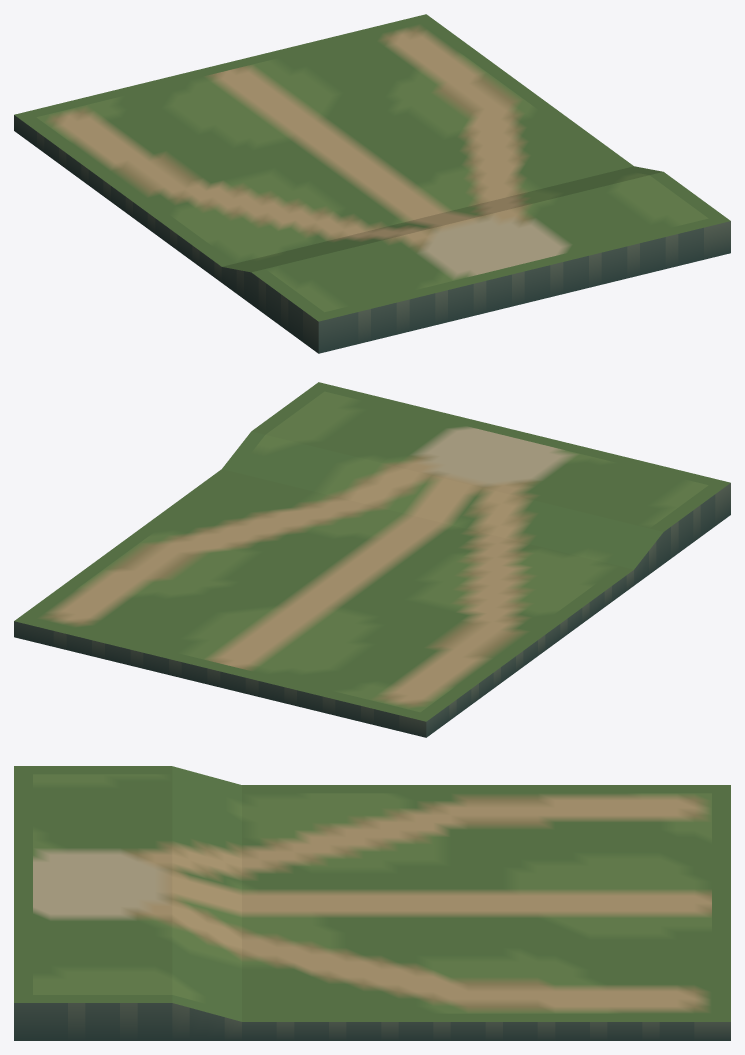
Rendered from rush-approach.glb.
3 renders of one model, top to bottom at view 1: azimuth 30°, elevation 25°; view 2: azimuth 150°, elevation 25°; view 3: azimuth 270°, elevation 25°, orthographic. The views are drawn at different scales.
Visible parts, largest first — view 1: Walkable lower field ramp and castle plateau, Rock skirt below the boundary; view 2: Walkable lower field ramp and castle plateau, Rock skirt below the boundary; view 3: Walkable lower field ramp and castle plateau, Rock skirt below the boundary.
Boxes of the visible parts, x1,y1,x2,y2 form: Walkable lower field ramp and castle plateau: [36, 23, 708, 312]; Rock skirt below the boundary: [14, 14, 730, 353]; Walkable lower field ramp and castle plateau: [36, 391, 708, 712]; Rock skirt below the boundary: [14, 382, 730, 737]; Walkable lower field ramp and castle plateau: [33, 774, 711, 1013]; Rock skirt below the boundary: [14, 766, 730, 1040].
Size of the model in its own units: 32.2 by 2.4 by 41.2.
